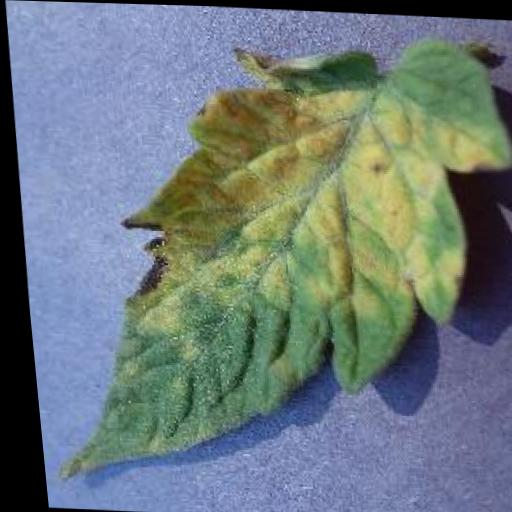Leaf Mold: (17, 16, 512, 501)
